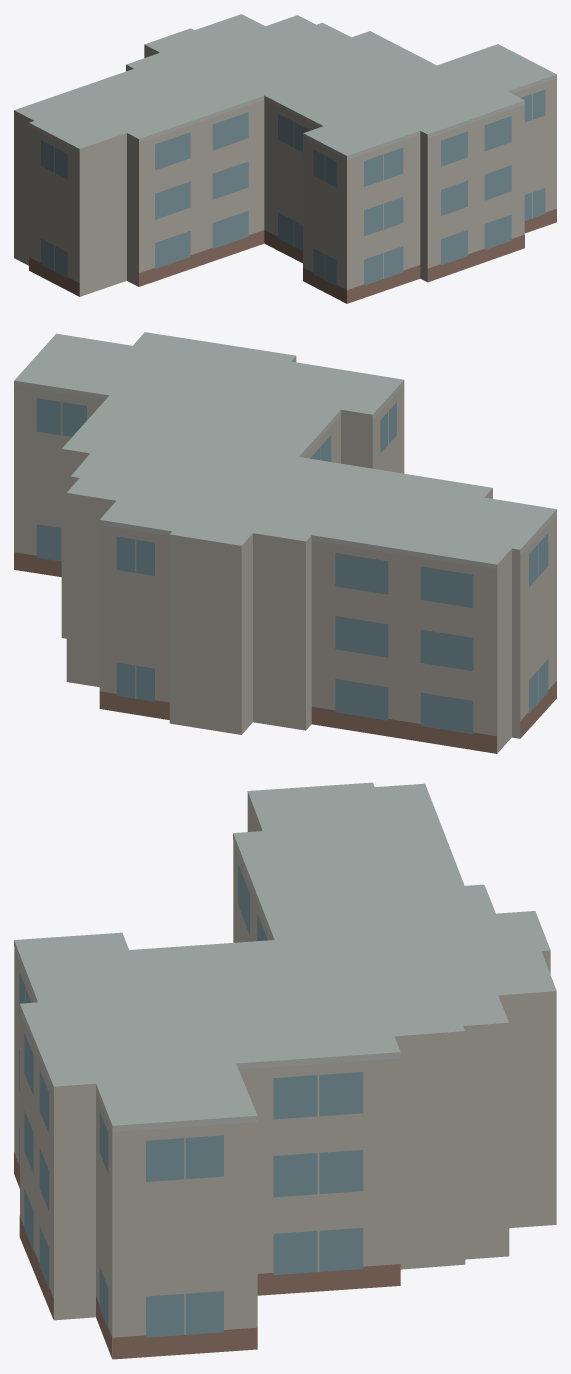
The model's file is survey-upis-32466687.glb.
The picture shows the model from 3 angles, top to bottom: view 1: azimuth 30°, elevation 25°; view 2: azimuth 150°, elevation 25°; view 3: azimuth 270°, elevation 25°; orthographic projection. The views are drawn at different scales.
Visible parts, largest first — view 1: survey-upis-32466687.tmp; view 2: survey-upis-32466687.tmp; view 3: survey-upis-32466687.tmp.
Boxes of the visible parts, box(x1,y1,x2,y2) form: survey-upis-32466687.tmp: box(14, 14, 556, 303); survey-upis-32466687.tmp: box(14, 332, 556, 753); survey-upis-32466687.tmp: box(14, 782, 556, 1359).
Size of the model in its own units: 28.84 by 9.15 by 19.27.
